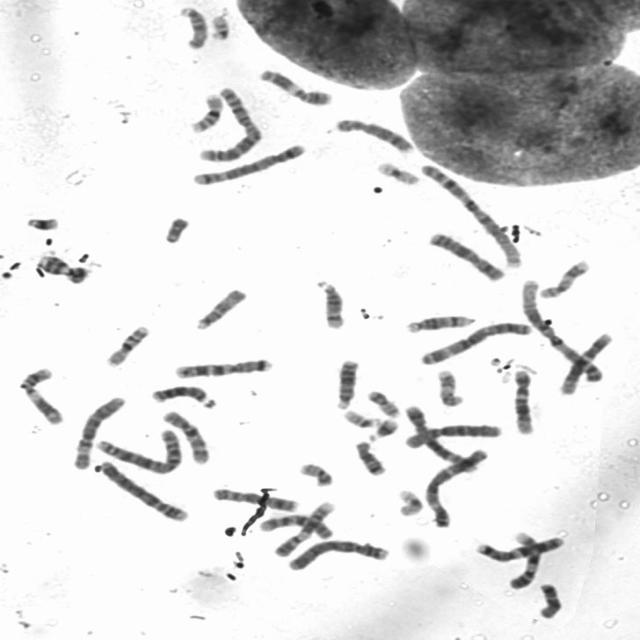A1: (415, 160, 525, 270), (516, 275, 608, 383)
A2: (192, 84, 264, 163), (90, 424, 186, 475)
A3: (419, 444, 492, 529), (415, 318, 535, 367)
B4: (92, 456, 192, 524), (282, 535, 393, 572)
B5: (399, 401, 481, 475), (189, 140, 309, 187)
C10: (157, 406, 213, 466), (255, 510, 336, 540)
C11: (253, 64, 335, 107), (15, 362, 68, 427)
C12: (556, 328, 616, 396), (509, 365, 538, 436)
C6: (68, 392, 128, 471), (399, 420, 503, 450)
C7: (472, 532, 568, 564), (169, 354, 275, 379)
C8: (332, 114, 418, 154), (208, 484, 302, 513)
C9: (269, 498, 338, 558), (506, 528, 544, 590)
D13: (148, 380, 220, 410), (331, 355, 362, 411)
D14: (311, 274, 348, 330), (401, 311, 478, 334)
D15: (189, 284, 249, 331), (174, 1, 210, 50)
E16: (101, 320, 153, 368), (186, 90, 226, 133)
E17: (536, 256, 592, 299), (432, 365, 467, 408)
E18: (351, 436, 388, 477), (534, 579, 565, 620)
F19: (372, 158, 423, 186), (393, 485, 425, 518)
F20: (362, 386, 403, 418), (294, 458, 336, 488)
G21: (364, 415, 401, 442), (21, 212, 63, 232)
G22: (338, 406, 382, 428), (207, 10, 233, 41)
X: (424, 227, 508, 283)
Y: (160, 212, 192, 244)
